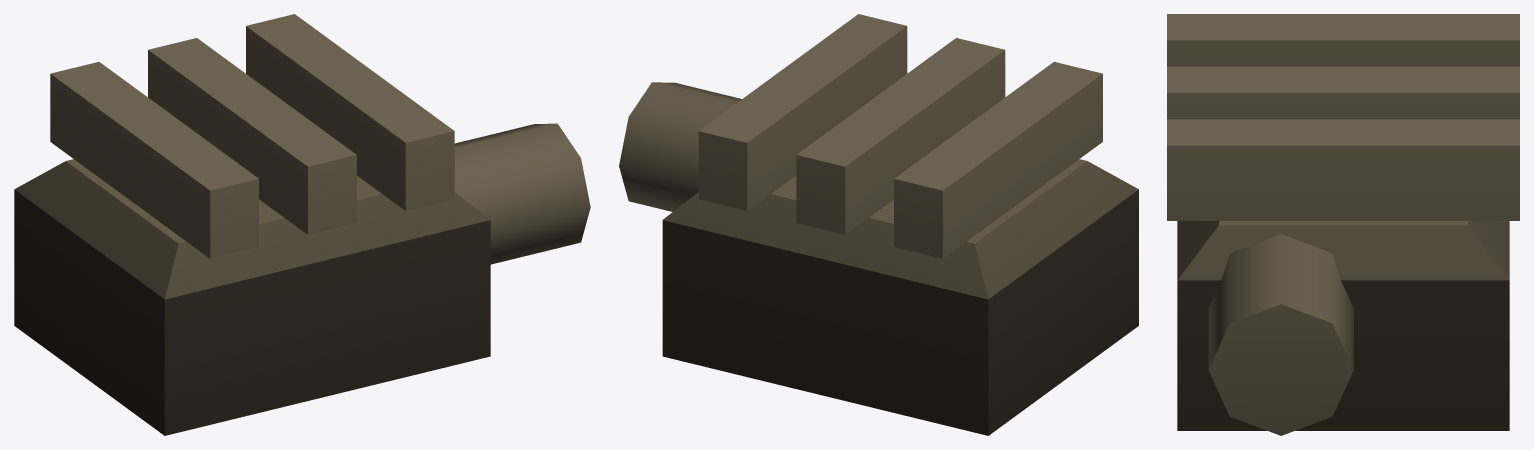
The model's file is engine-unit.glb.
3 views of the same model, side by side, from view 1: azimuth 30°, elevation 25°; view 2: azimuth 150°, elevation 25°; view 3: azimuth 270°, elevation 25° (orthographic). The views are drawn at different scales.
Parts seen in each view (by area): view 1: engine-unit; view 2: engine-unit; view 3: engine-unit.
Part boxes in pixels (x1,y1,x2,y2): engine-unit: [14, 14, 590, 435]; engine-unit: [619, 14, 1138, 435]; engine-unit: [1167, 14, 1519, 435].
Bounding box in the file's own units: 0.27 × 0.14 × 0.17.
